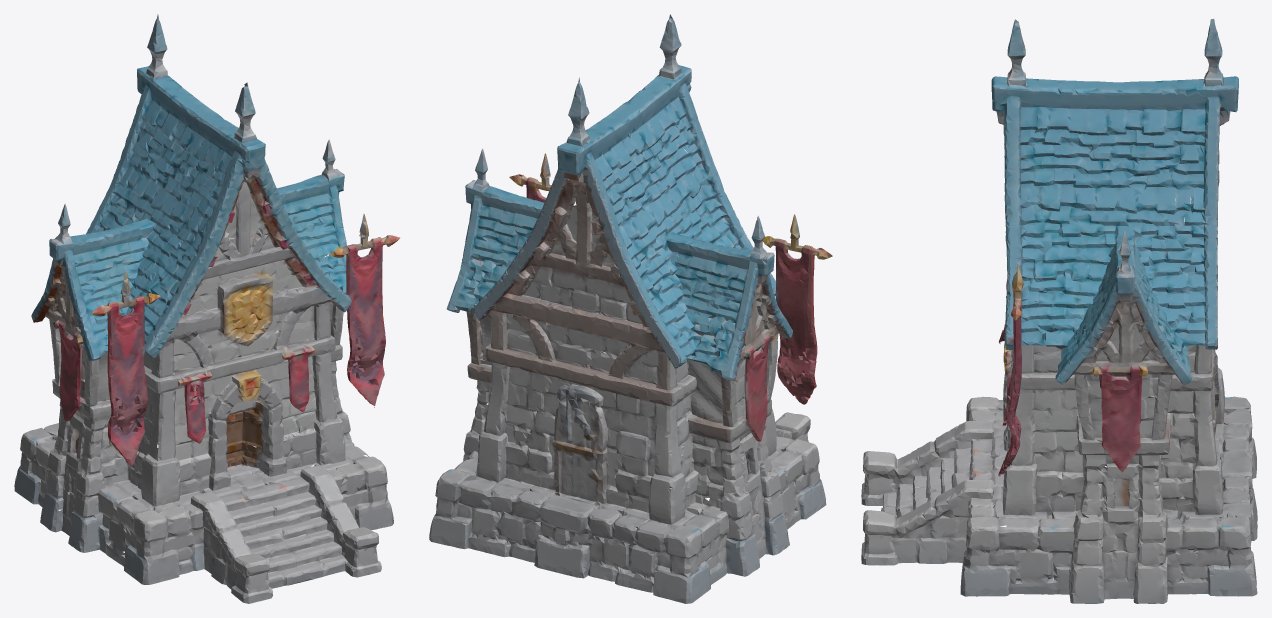
Rendered from building_alliance_hall_lod0.glb.
3 views of the same model, side by side, from view 1: azimuth 30°, elevation 25°; view 2: azimuth 150°, elevation 25°; view 3: azimuth 270°, elevation 25° (orthographic). The views are drawn at different scales.
Parts seen in each view (by area): view 1: world; view 2: world; view 3: world.
Part boxes in pixels (x1,y1,x2,y2): world: (14,14,399,603); world: (429,14,832,603); world: (861,19,1257,603).
Bounding box in the file's own units: 1.34 × 1.9 × 1.33.
